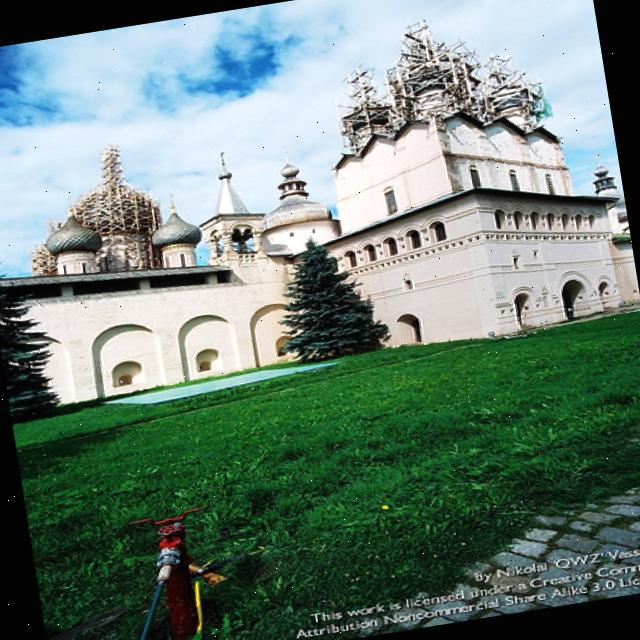fire_hydrant: (129, 507, 225, 640)
